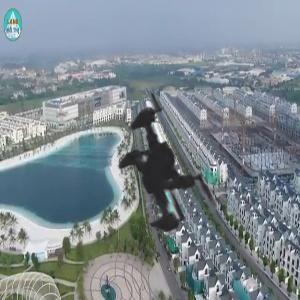drone: (30, 56, 273, 299)
